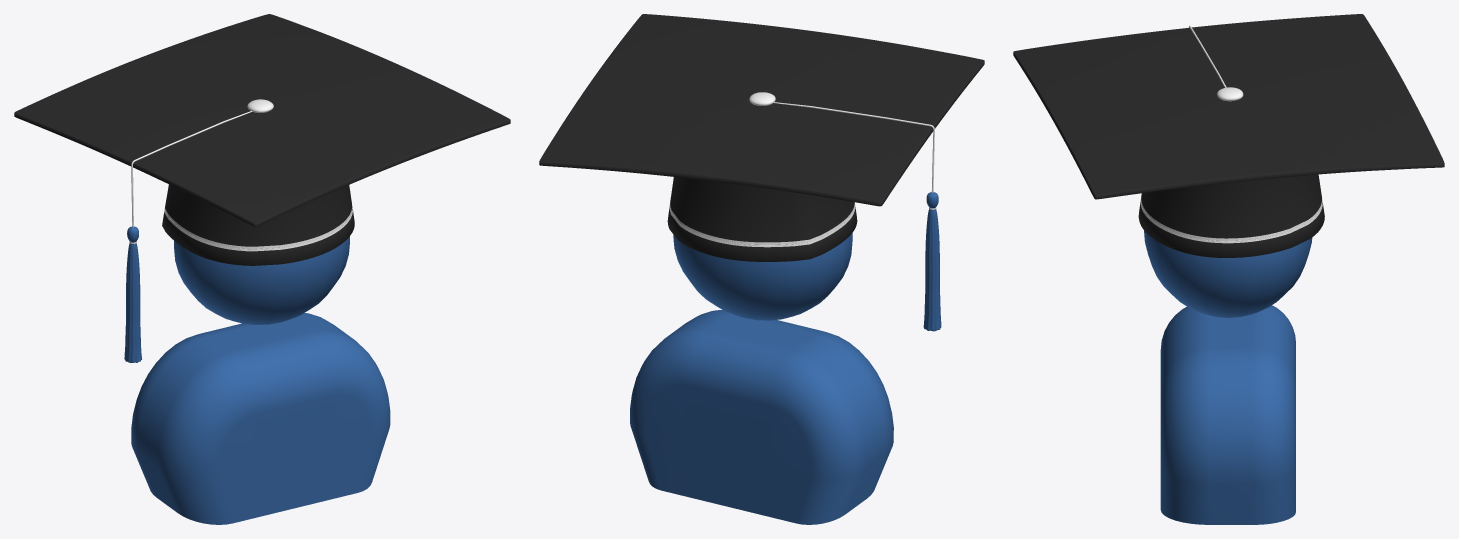
The model's file is education.obj.
The picture shows the model from 3 angles, left to right: view 1: azimuth 30°, elevation 25°; view 2: azimuth 150°, elevation 25°; view 3: azimuth 270°, elevation 25°; orthographic projection.
Visible parts, largest first — view 1: Edu_Icon_Tex; view 2: Edu_Icon_Tex; view 3: Edu_Icon_Tex.
Boxes of the visible parts, x1,y1,x2,y2 form: Edu_Icon_Tex: [14, 14, 510, 524]; Edu_Icon_Tex: [539, 14, 984, 524]; Edu_Icon_Tex: [1013, 14, 1444, 524].
Size of the model in its own units: 0.8274 by 0.8238 by 0.8295.
